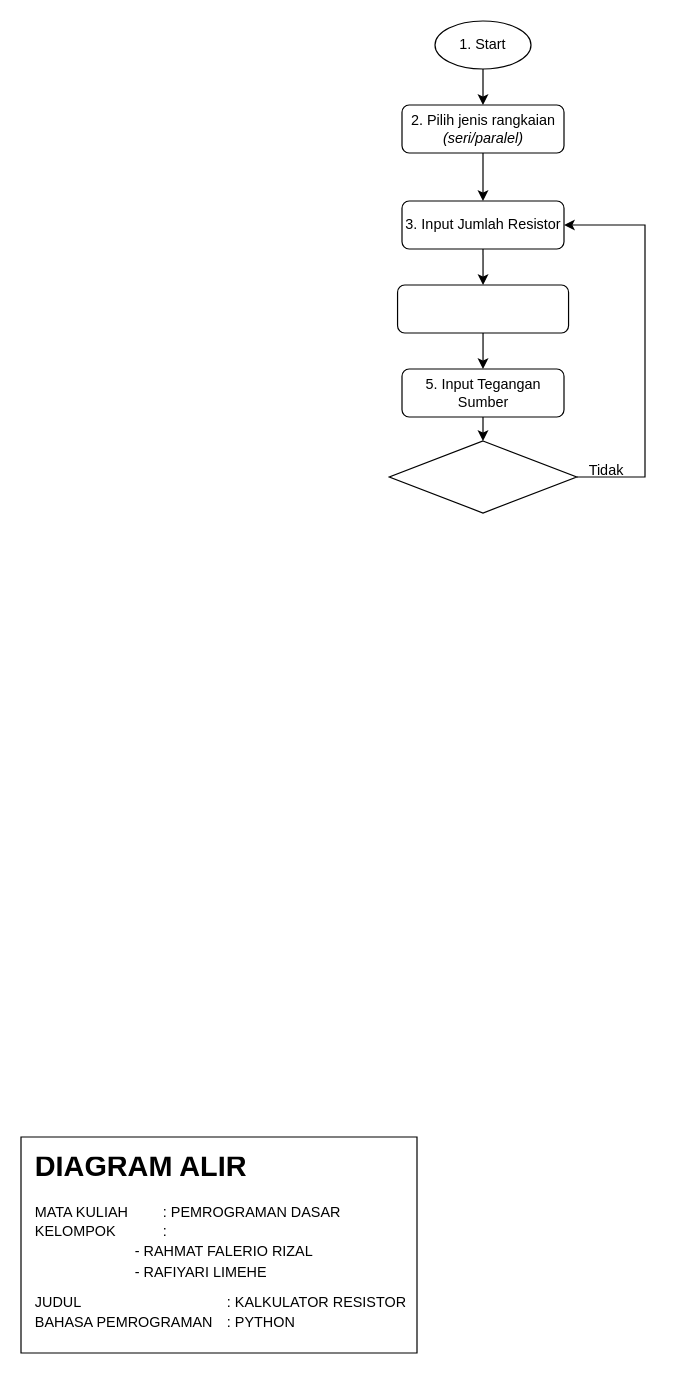
The diagram is 676 pixels wide and 1378 high, and some of its shapes have lost their labels. Here are the shapes that lost their labels. From the top down, the centre of each, then its label:
[482,308]: 4. Input Nilai Tiap Resistor
[482,476]: 6. Input Valid (ya/tidak)
